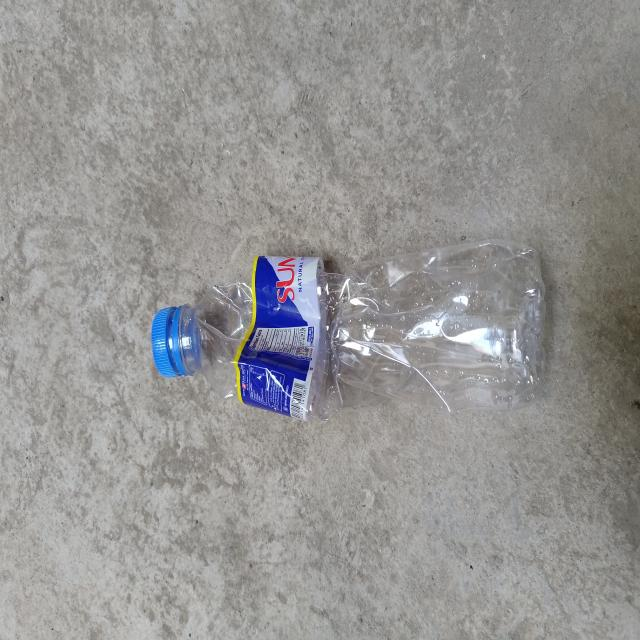Bottle: (152, 240, 545, 420)
